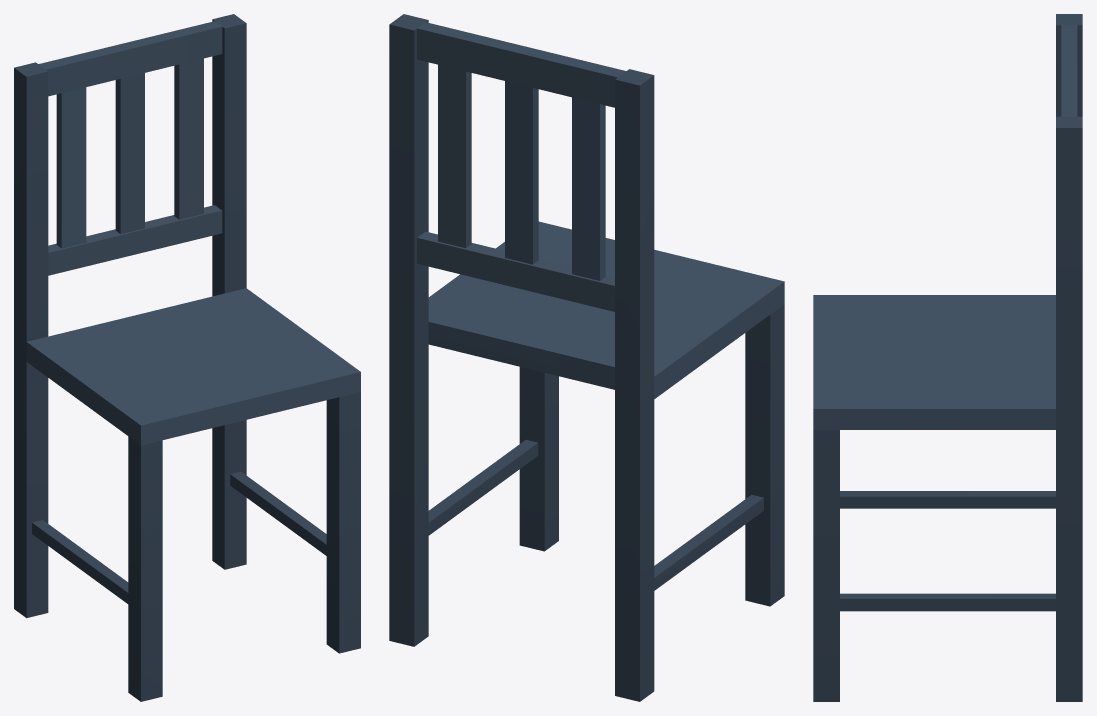
Rendered from seat.chair.blue.glb.
The picture shows the model from 3 angles, left to right: view 1: azimuth 30°, elevation 25°; view 2: azimuth 150°, elevation 25°; view 3: azimuth 270°, elevation 25°; orthographic projection. The views are drawn at different scales.
Parts seen in each view (by area): view 1: seat_chair_blue; view 2: seat_chair_blue; view 3: seat_chair_blue.
Boxes of the visible parts, box(x1,y1,x2,y2) form: seat_chair_blue: box(14, 14, 360, 701); seat_chair_blue: box(389, 14, 784, 701); seat_chair_blue: box(813, 14, 1082, 701).
Size of what is drawn, in the model's own units: 0.404 by 0.95 by 0.404.
